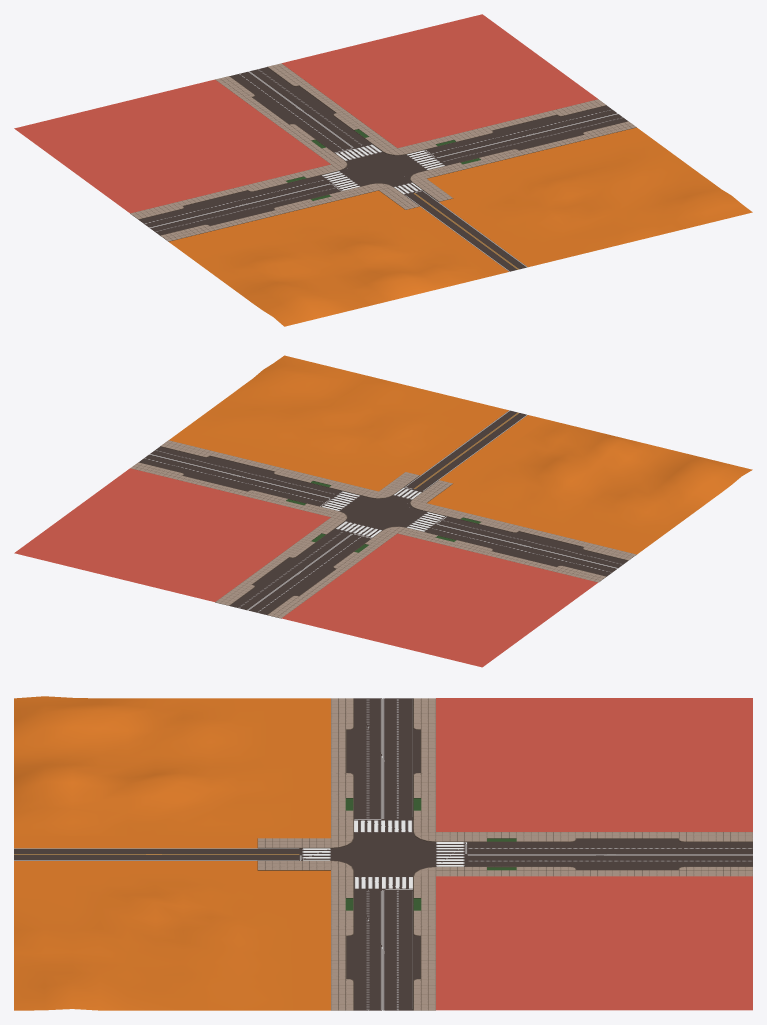
The model's file is TileCityDesert1.fbx.
3 views of the same model, one above another, from view 1: azimuth 30°, elevation 25°; view 2: azimuth 150°, elevation 25°; view 3: azimuth 270°, elevation 25° (orthographic). The views are drawn at different scales.
Visible parts, largest first — view 1: Plane.045, Sidewalk1.126, Road1.018, Road1.019, Road.001, Road1.001, Sidewalk1.079, Sidewalk1.078, Sidewalk1.092; view 2: Plane.045, Sidewalk1.126, Road1.018, Road1.019, Road.001, Road1.001, Sidewalk1.079, Sidewalk1.078, Sidewalk1.092; view 3: Plane.045, Sidewalk1.126, Road1.018, Road1.019, Road.001, Road1.001, Sidewalk1.092, Sidewalk1.078, Sidewalk1.079, Sidewalk1.100, Road1.012, Sidewalk1.082 (+18 smaller).
Part boxes in pixels (x1=…): Plane.045: x1=168, y1=127, x2=752, y2=326; Sidewalk1.126: x1=14, y1=14, x2=598, y2=213; Road1.018: x1=138, y1=105, x2=627, y2=235; Road1.019: x1=230, y1=67, x2=370, y2=152; Road.001: x1=405, y1=191, x2=527, y2=271; Road1.001: x1=339, y1=152, x2=426, y2=186; Sidewalk1.079: x1=416, y1=132, x2=500, y2=171; Sidewalk1.078: x1=266, y1=169, x2=350, y2=208; Sidewalk1.092: x1=294, y1=120, x2=386, y2=156; Plane.045: x1=169, y1=355, x2=752, y2=554; Sidewalk1.126: x1=14, y1=468, x2=597, y2=667; Road1.018: x1=139, y1=446, x2=627, y2=576; Road1.019: x1=230, y1=529, x2=370, y2=614; Road.001: x1=405, y1=410, x2=527, y2=491; Road1.001: x1=340, y1=495, x2=427, y2=529; Sidewalk1.079: x1=266, y1=473, x2=350, y2=512; Sidewalk1.078: x1=416, y1=510, x2=500, y2=549; Sidewalk1.092: x1=293, y1=525, x2=386, y2=560; Plane.045: x1=14, y1=696, x2=330, y2=1010; Sidewalk1.126: x1=436, y1=698, x2=752, y2=1010; Road1.018: x1=354, y1=698, x2=412, y2=1010; Road1.019: x1=467, y1=842, x2=752, y2=866; Road.001: x1=14, y1=848, x2=299, y2=860; Road1.001: x1=331, y1=832, x2=435, y2=876; Sidewalk1.092: x1=464, y1=832, x2=538, y2=876; Sidewalk1.078: x1=331, y1=788, x2=435, y2=819; Sidewalk1.079: x1=331, y1=888, x2=435, y2=919; Sidewalk1.100: x1=605, y1=832, x2=649, y2=876; Road1.012: x1=354, y1=876, x2=412, y2=890; Sidewalk1.082: x1=331, y1=742, x2=435, y2=760.
Size of the model in its own units: 20008 by 322 by 20000.
